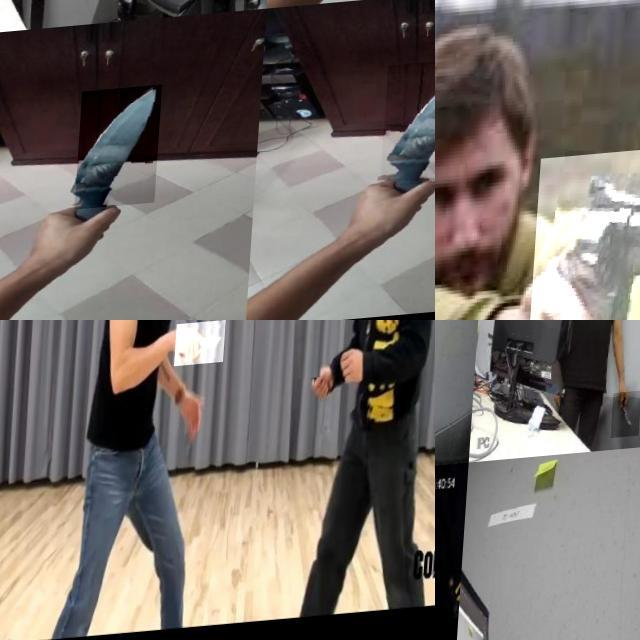-: (81, 89, 168, 212), (435, 477, 477, 640), (387, 66, 435, 196), (435, 320, 511, 387), (180, 326, 230, 370), (614, 399, 640, 446), (63, 0, 82, 18)
gun-knife-thesis - v11 Yolov5 augmented: (526, 146, 640, 320)
